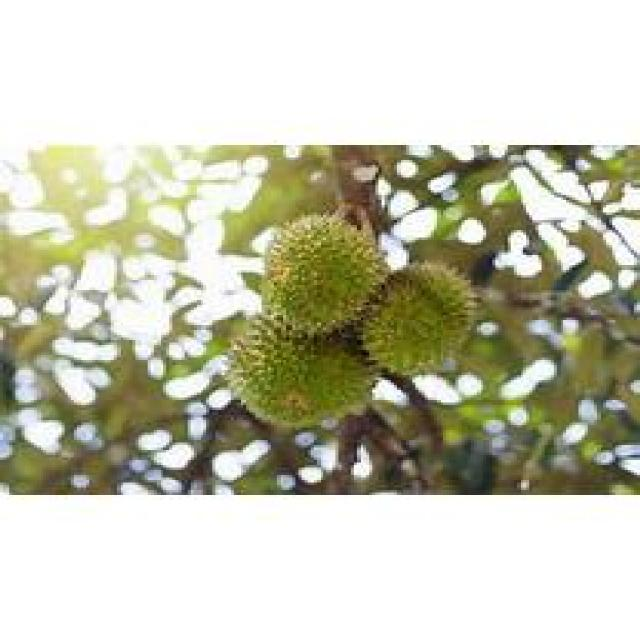fruit: (212, 218, 397, 438)
